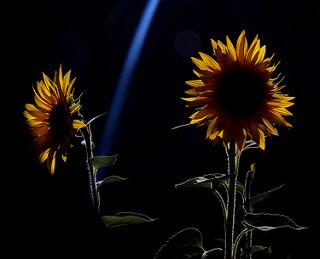flower: (169, 15, 305, 159), (18, 60, 96, 178)
